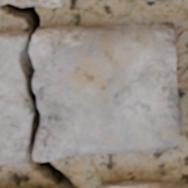brick: (100, 181, 187, 187), (0, 0, 66, 6)
broken_brick: (30, 22, 182, 161), (0, 30, 31, 166)
crack: (0, 2, 74, 187)
